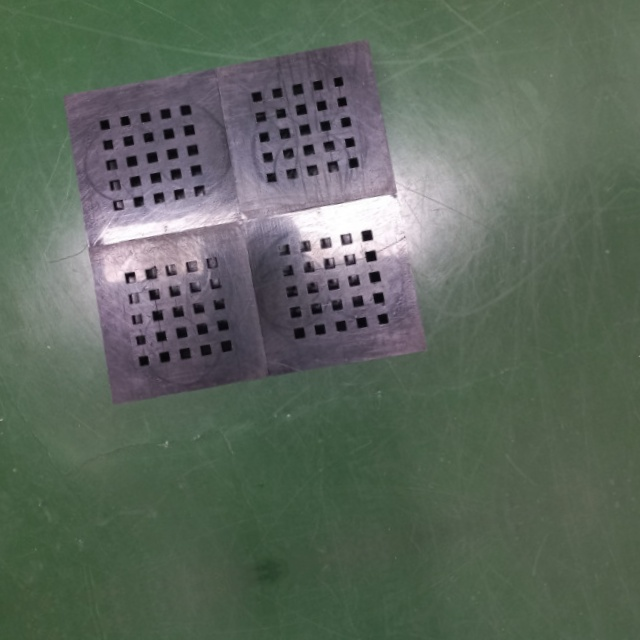pallet: (45, 29, 442, 417)
